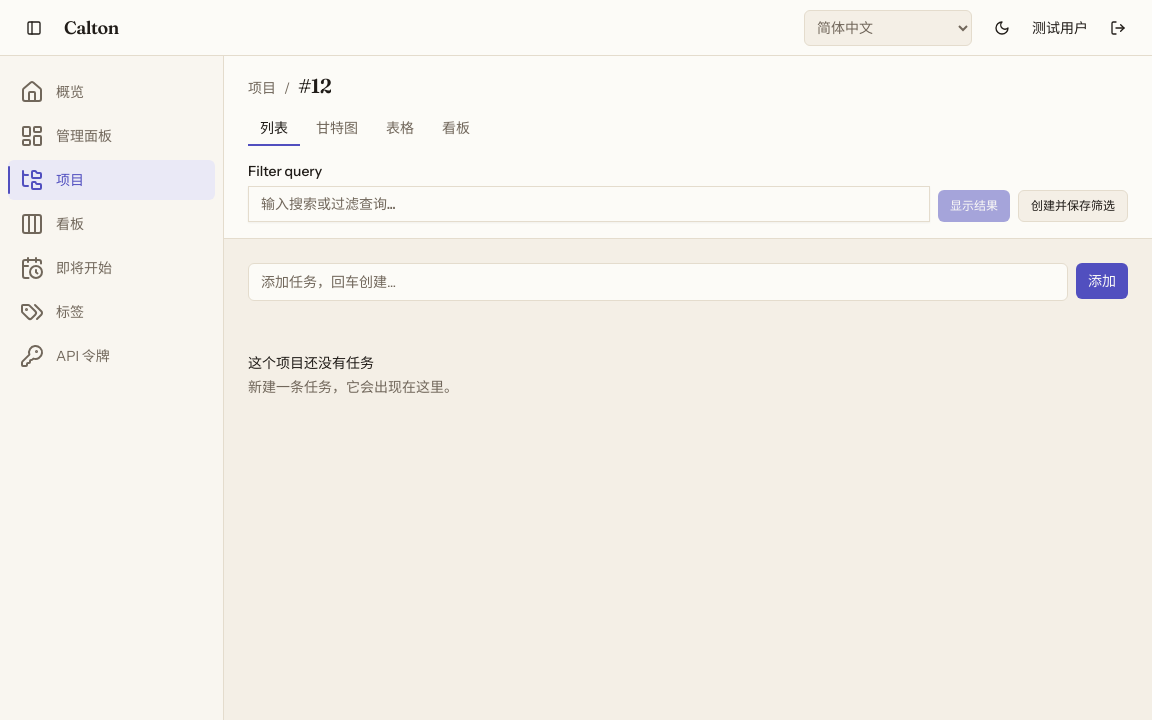
it: 新建保存的筛选器 › 后端报错时弹窗不关，就地显示错误
Expected: the form with test id "filter-bar" is shown, [248,158,1128,222]
Click the button with test id "save-filter-button".
click(1073, 206)  # box [1018,190,1128,222]
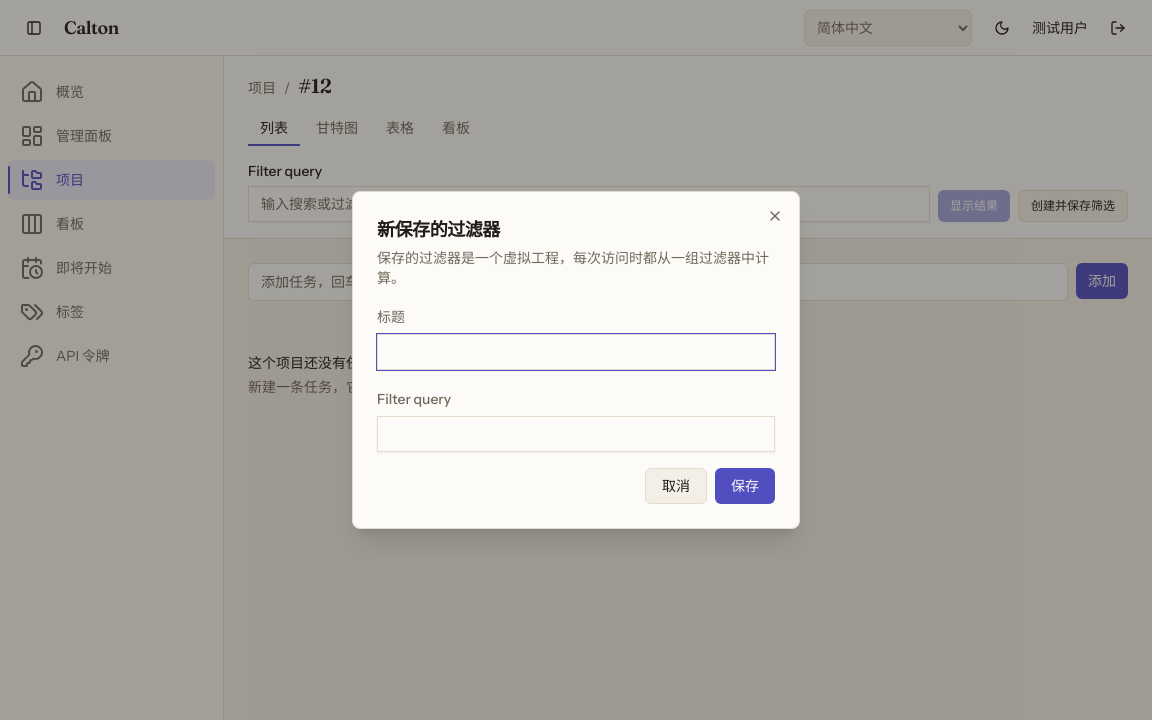
Type "我的未完成" into the field with test id "filter-title-input".
click(576, 352); type("我的未完成")  # box [377,334,775,370]
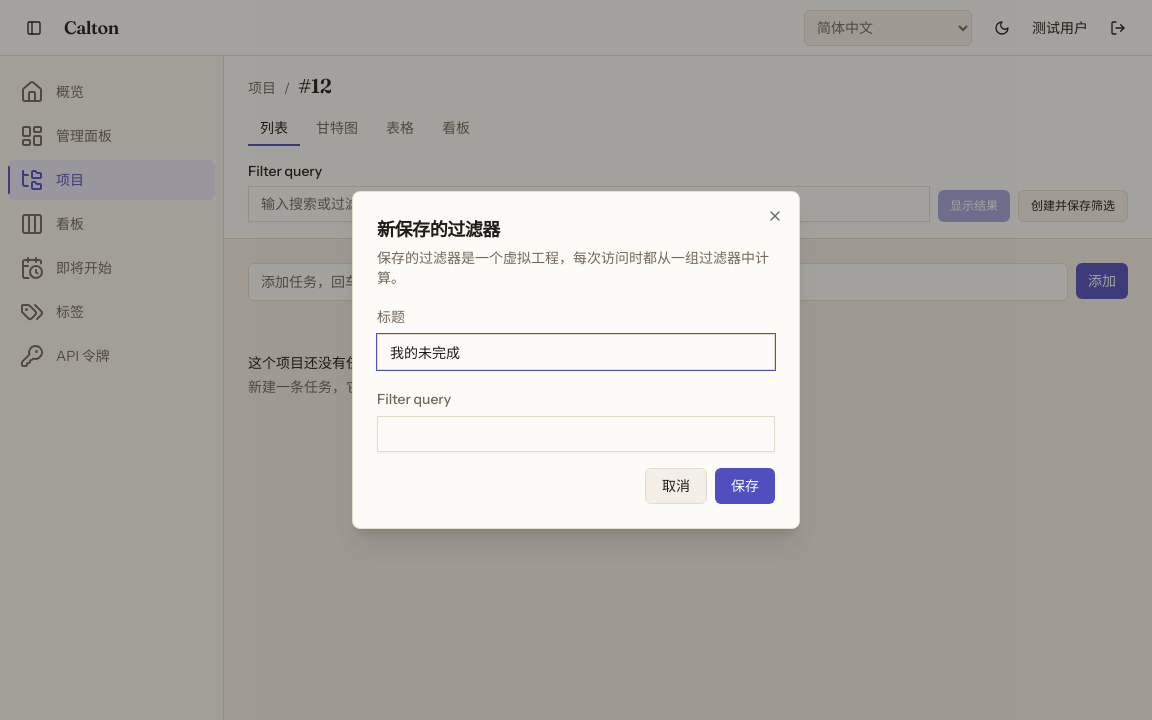
Click the button with test id "filter-save-submit".
click(745, 486)  # box [715,468,775,504]
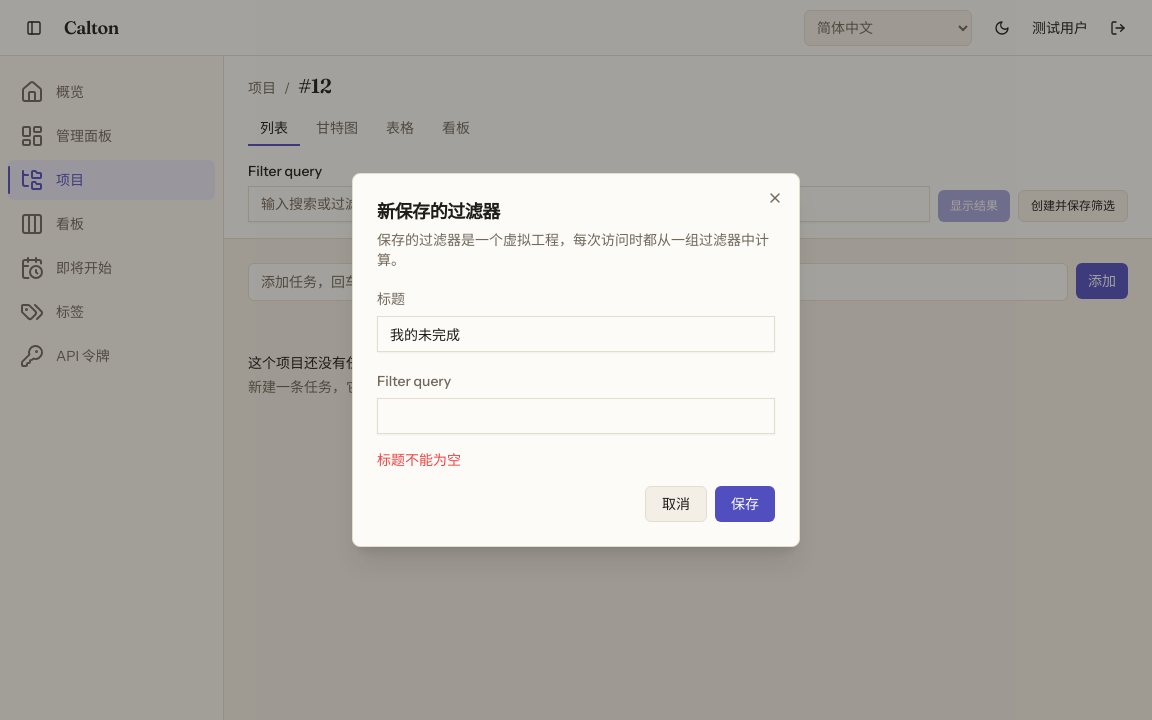
Expected: the dialog with test id "saved-filter-form" is shown, [352,173,800,547]
Expected: the message with test id "saved-filter-form-error" reads "标题不能为空", [377,451,461,469]
